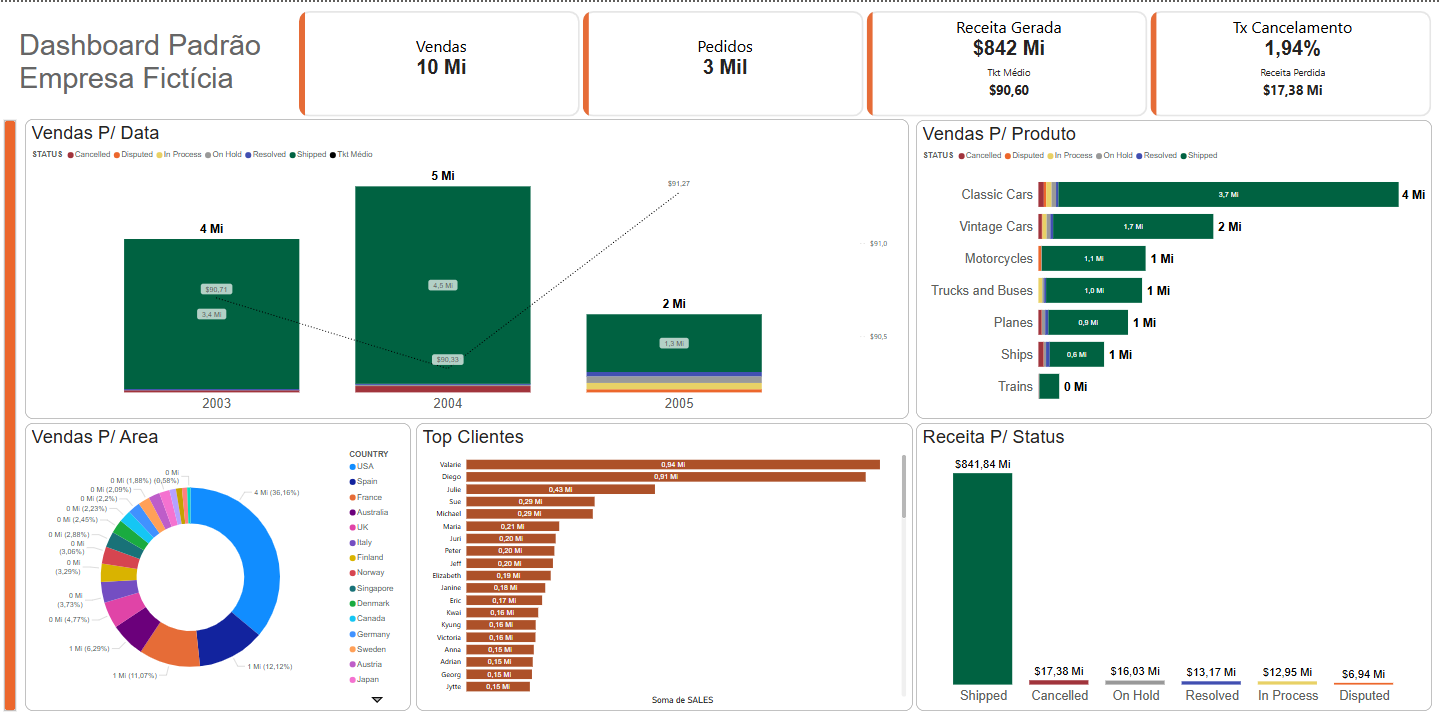

Layout of this report page (visuals, bound fields, positions):
{"tool":"powerbi","page":{"name":"Página 1","canvas":[2400,1200],"ordinal":0},"visuals":[{"type":"cardVisual","title":"Cartão","fields":{"Data":["sales_data_sample.SALES","sales_data_sample.ORDERNUMBER","Medidas.Receita Gerada","Medidas.Tx Cancelamento"]},"box":[498.3,10,1888.3,186.7],"z":0},{"type":"shape","box":[6.7,196.7,20,985],"z":1000},{"type":"lineStackedColumnComboChart","title":"Vendas P/ Data","fields":{"Category":["sales_data_sample.ORDERDATE.Variation.Hierarquia de datas.Ano","sales_data_sample.ORDERDATE.Variation.Hierarquia de datas.Mês","sales_data_sample.ORDERDATE.Variation.Hierarquia de datas.Dia"],"Y":["sales_data_sample.SALES"],"Series":["sales_data_sample.STATUS"],"Y2":["Medidas.Tkt Médio"]},"box":[41.7,195,1473.3,500],"z":3000},{"type":"barChart","title":"Vendas P/ Produto","fields":{"Y":["sales_data_sample.SALES"],"Series":["sales_data_sample.STATUS"],"Category":["sales_data_sample.PRODUCTLINE"]},"box":[1526.7,196.7,860,498.3],"z":3001},{"type":"donutChart","title":"Vendas P/ Area","fields":{"Category":["sales_data_sample.COUNTRY"],"Y":["sales_data_sample.SALES"]},"box":[41.7,701.7,643.3,480],"z":3002},{"type":"clusteredBarChart","title":"Top Clientes","fields":{"Category":["sales_data_sample.CONTACTFIRSTNAME"],"Y":["sales_data_sample.SALES"]},"box":[693.3,701.7,828.3,480],"z":3003},{"type":"columnChart","title":"Receita P/ Status","fields":{"Category":["sales_data_sample.STATUS"],"Y":["sales_data_sample.Receita"]},"box":[1527,702,860,480],"z":3004},{"type":"textbox","box":[26.7,40,438.3,125],"z":3005}]}

Visuals, with their boxes in screenshot pixels (x1, y1, x2, y2), scaled from the page's 2400x1200 canvas onto the 1439x721 screenshot:
"Cartão" cardVisual: 299 6 1431 118
shape: 4 118 16 710
"Vendas P/ Data" lineStackedColumnComboChart: 25 117 908 418
"Vendas P/ Produto" barChart: 915 118 1431 418
"Vendas P/ Area" donutChart: 25 422 411 710
"Top Clientes" clusteredBarChart: 416 422 912 710
"Receita P/ Status" columnChart: 916 422 1431 710
textbox: 16 24 279 99
